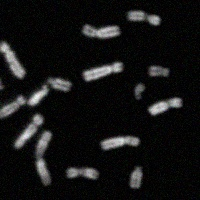chromosome: (14, 113, 43, 148), (0, 42, 25, 78), (36, 131, 51, 185), (84, 62, 124, 80), (148, 98, 181, 116), (0, 96, 25, 118), (102, 137, 140, 151), (82, 24, 119, 38), (127, 11, 160, 25), (29, 85, 47, 105), (66, 167, 97, 178), (47, 77, 70, 91), (131, 167, 143, 188), (149, 66, 169, 78), (135, 83, 145, 99), (0, 75, 2, 90)
